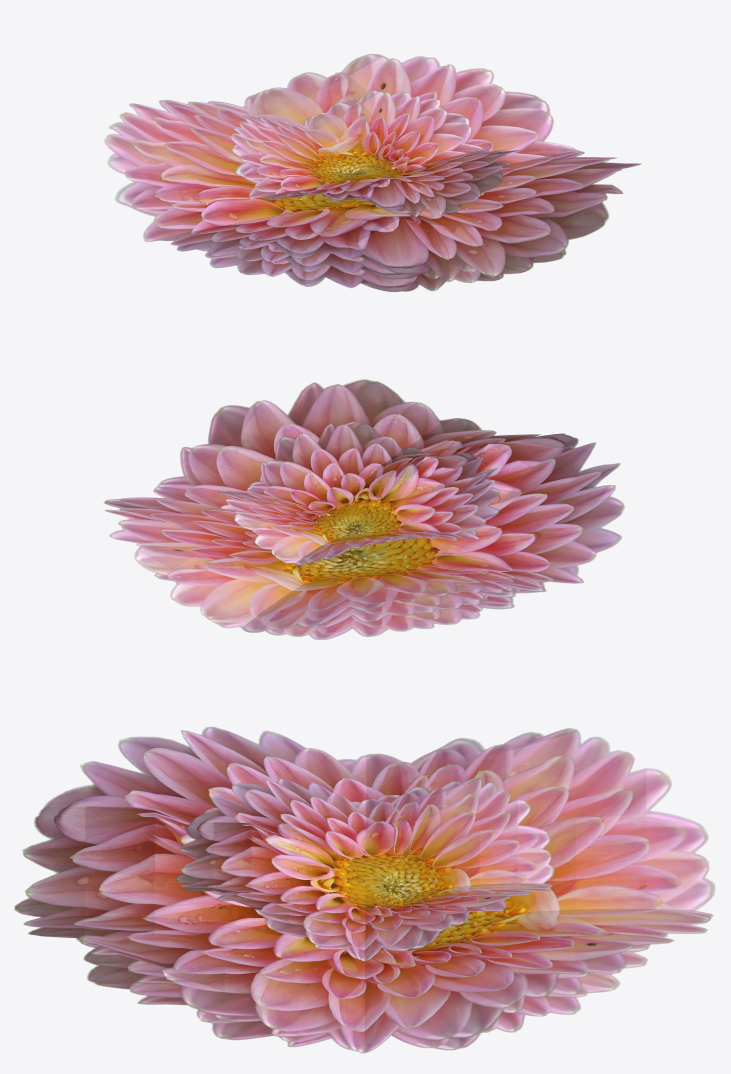
File: flower_i_guess.glb
3 renders of one model, top to bottom at view 1: azimuth 30°, elevation 25°; view 2: azimuth 150°, elevation 25°; view 3: azimuth 270°, elevation 25°, orthographic. The views are drawn at different scales.
Parts seen in each view (by area): view 1: dahlia_final.003, dahlia_final, dahlia_final.001, dahlia_final.002; view 2: dahlia_final.003, dahlia_final, dahlia_final.001, dahlia_final.002; view 3: dahlia_final.003, dahlia_final, dahlia_final.001, dahlia_final.002.
Part boxes in pixels (left/top/right/bottom): dahlia_final.003: left=104, top=54, right=641, bottom=281; dahlia_final: left=230, top=90, right=520, bottom=216; dahlia_final.001: left=197, top=247, right=566, bottom=291; dahlia_final.002: left=205, top=243, right=477, bottom=279; dahlia_final.003: left=103, top=379, right=624, bottom=632; dahlia_final: left=218, top=422, right=499, bottom=565; dahlia_final.001: left=154, top=573, right=545, bottom=639; dahlia_final.002: left=293, top=581, right=546, bottom=627; dahlia_final.003: left=14, top=727, right=715, bottom=1053; dahlia_final: left=175, top=777, right=554, bottom=961; dahlia_final.001: left=76, top=938, right=649, bottom=1050; dahlia_final.002: left=81, top=941, right=649, bottom=1022.
Bounding box in the file's own units: 1.12 × 0.1855 × 1.15.
1 material, 1 textured.
